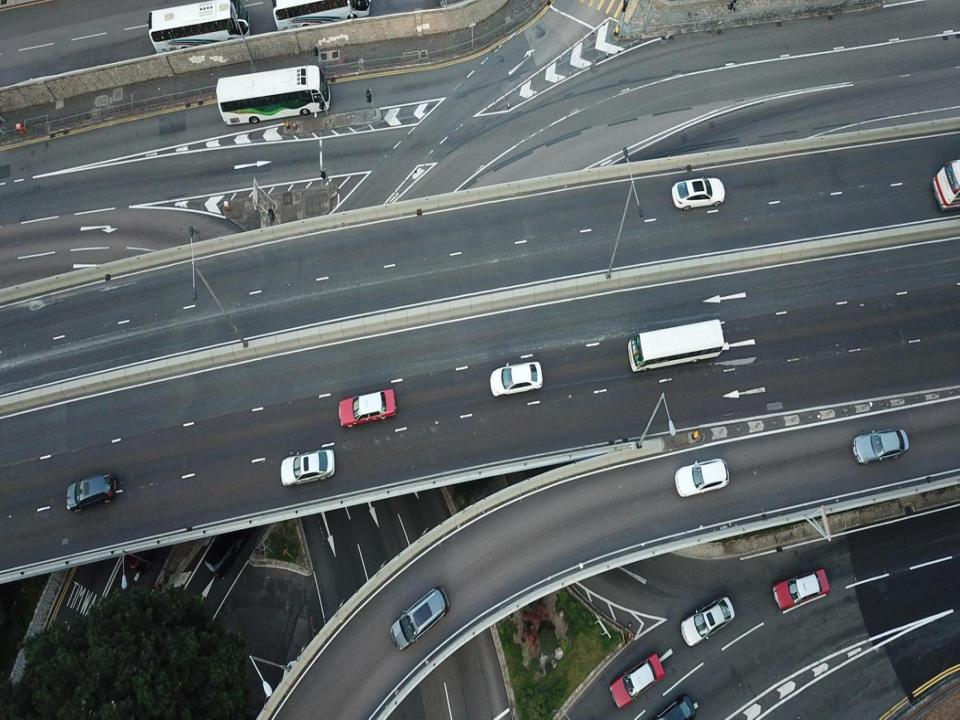bus: (217, 62, 332, 128), (147, 4, 247, 60), (625, 318, 730, 371), (271, 6, 372, 30)
car: (390, 583, 450, 652), (610, 652, 666, 707), (680, 595, 735, 648), (674, 454, 730, 501), (276, 447, 338, 488), (335, 388, 398, 428), (770, 570, 832, 610), (65, 470, 119, 514), (851, 430, 911, 462), (492, 362, 546, 396), (668, 179, 729, 209), (648, 691, 700, 719)
